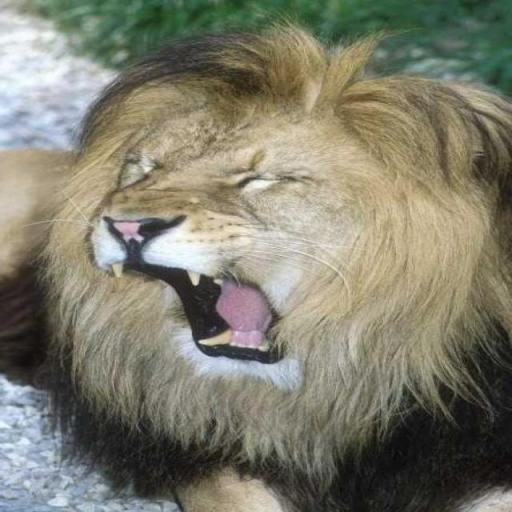Lion: (1, 14, 511, 512)
